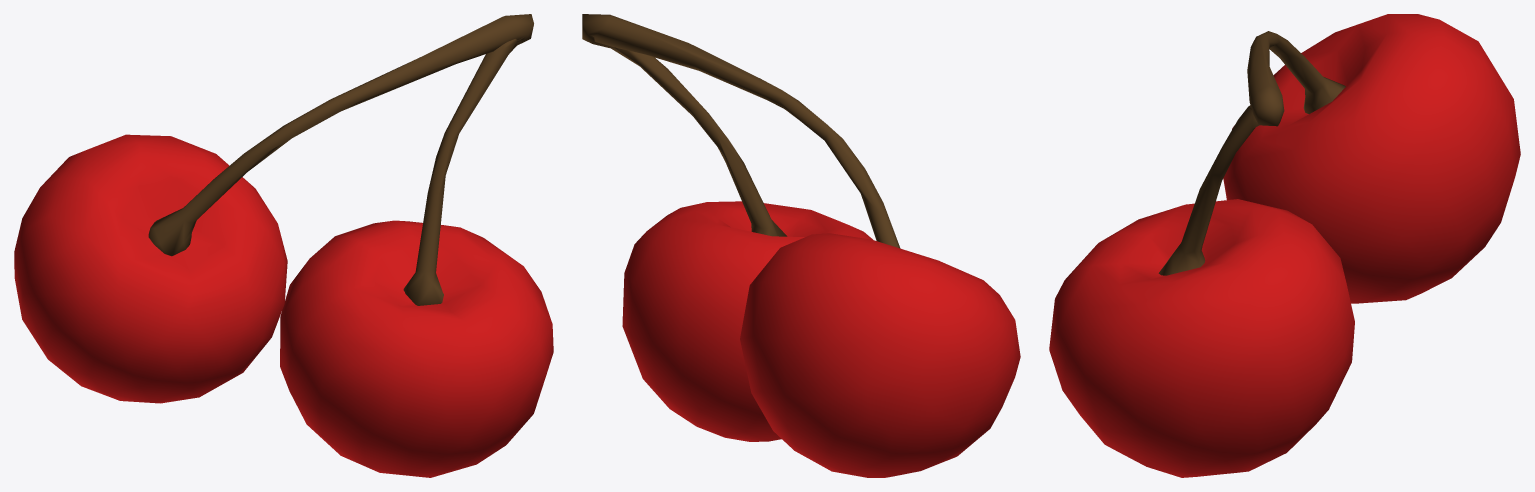
The model's file is cherry.glb.
3 views of the same model, side by side, from view 1: azimuth 30°, elevation 25°; view 2: azimuth 150°, elevation 25°; view 3: azimuth 270°, elevation 25° (orthographic). The views are drawn at different scales.
Visible parts, largest first — view 1: cherry1; view 2: cherry1; view 3: cherry1.
Part boxes in pixels (box(x1,y1,x2,y2)): cherry1: box(14, 14, 553, 477); cherry1: box(582, 14, 1020, 477); cherry1: box(1049, 14, 1520, 477).
Bounding box in the file's own units: 2.48 × 2.06 × 2.
